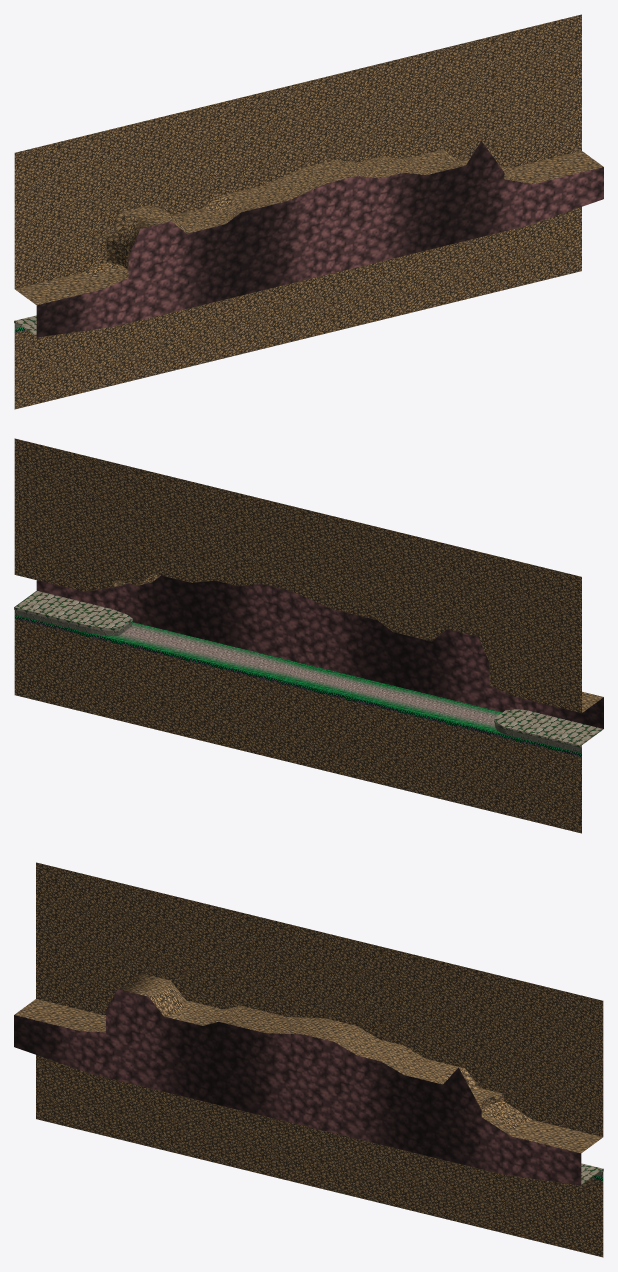
Rendered from Area2_Room4.fbx.
3 renders of one model, top to bottom at view 1: azimuth 30°, elevation 25°; view 2: azimuth 150°, elevation 25°; view 3: azimuth 330°, elevation 25°, orthographic.
Parts seen in each view (by area): view 1: polySurface1; view 2: polySurface1; view 3: polySurface1.
Boxes of the visible parts, <box> form: polySurface1: <box>14,14,603,409</box>; polySurface1: <box>14,438,603,833</box>; polySurface1: <box>14,862,603,1257</box>.
Bounding box in the file's own units: 74 × 32 × 5.14.
